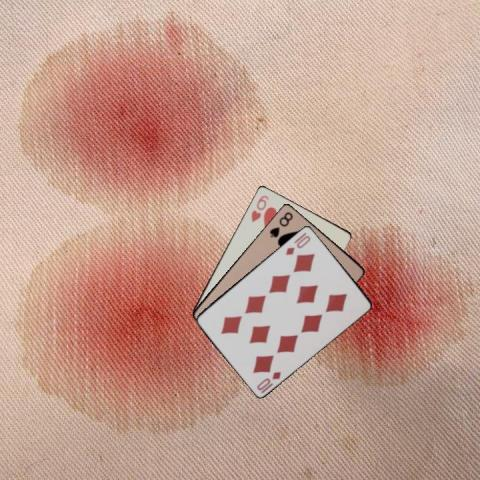10d: (283, 232, 312, 256), (254, 368, 283, 391)
6h: (248, 192, 270, 223)
8s: (267, 208, 294, 238)
